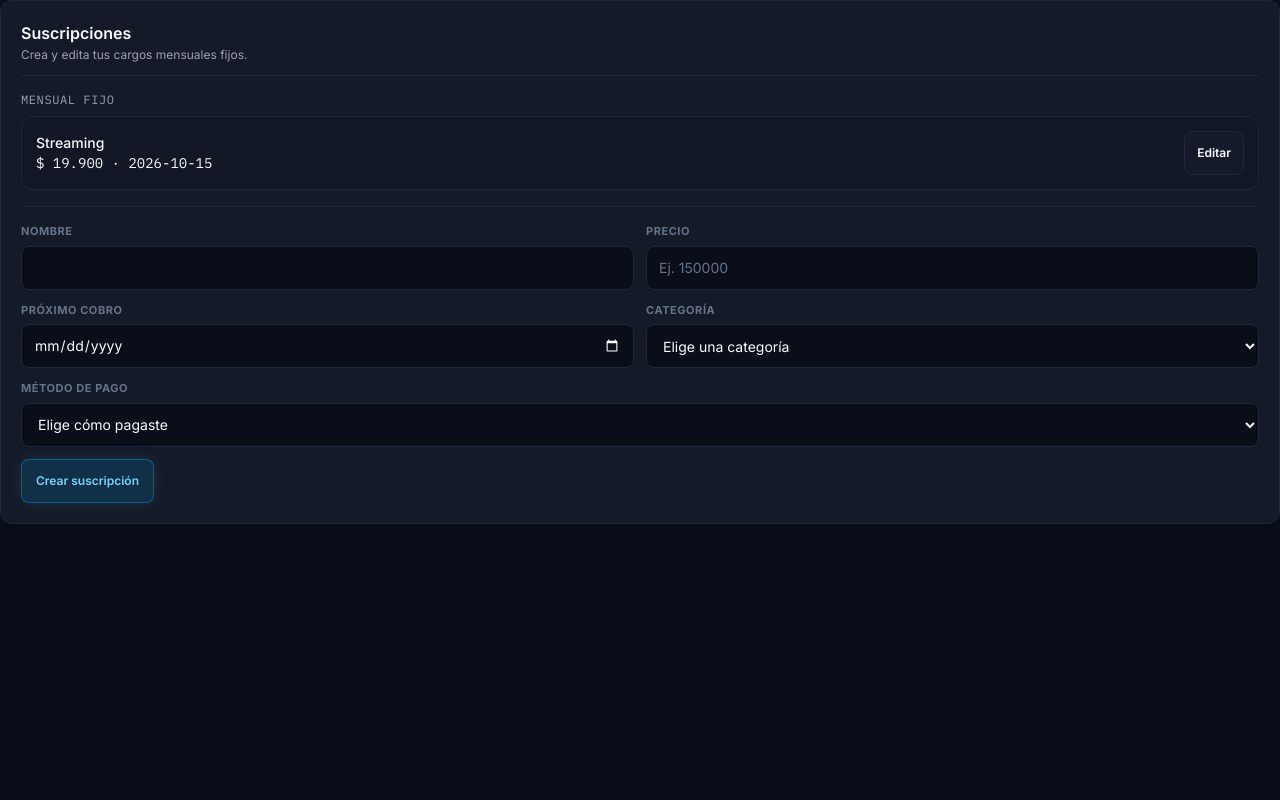
Scenario: SubscriptionsSection › falls back to the generic Spanish message for a 500 with a non-JSON body (F11.3)
Expected: the text "Streaming" is shown, [36, 134, 104, 151]
Click the button "Editar": x=1214, y=153 [1184, 131, 1244, 175]
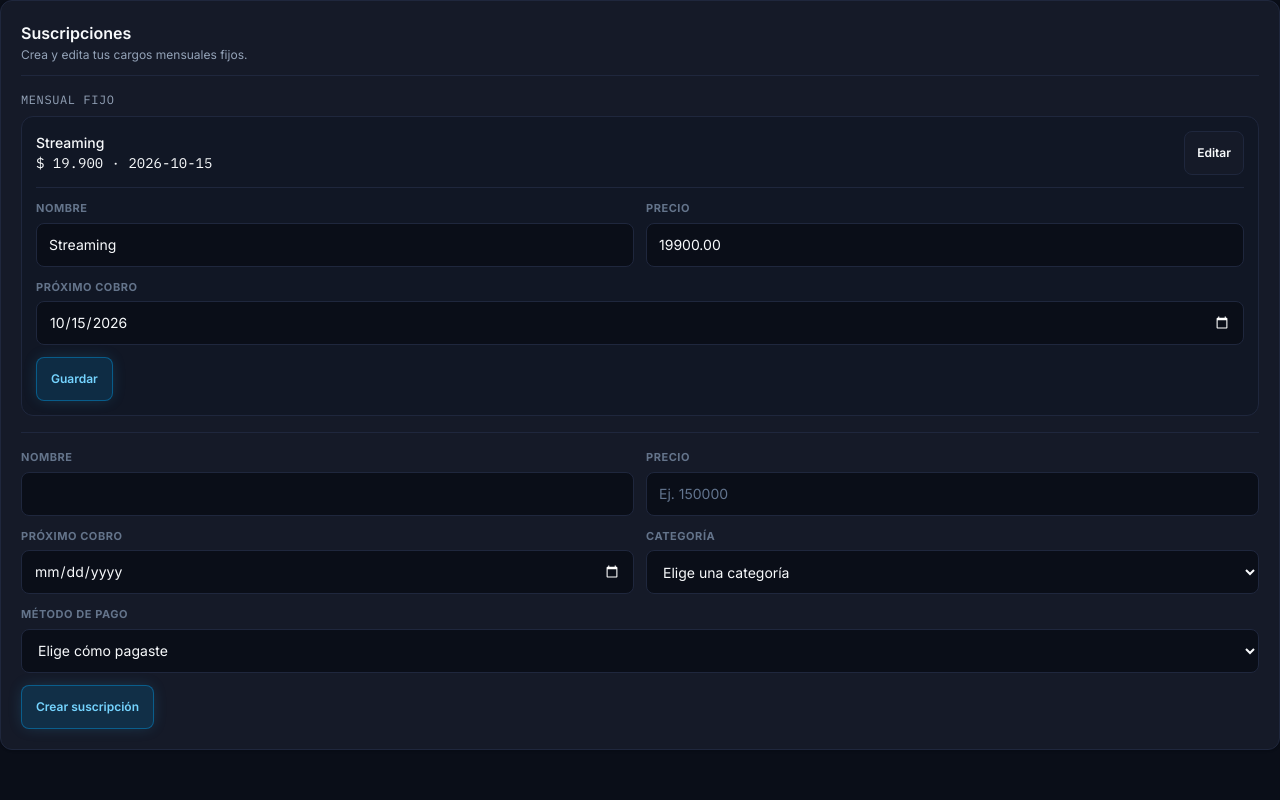
Click the button "Guardar": x=74, y=379 [36, 357, 113, 401]
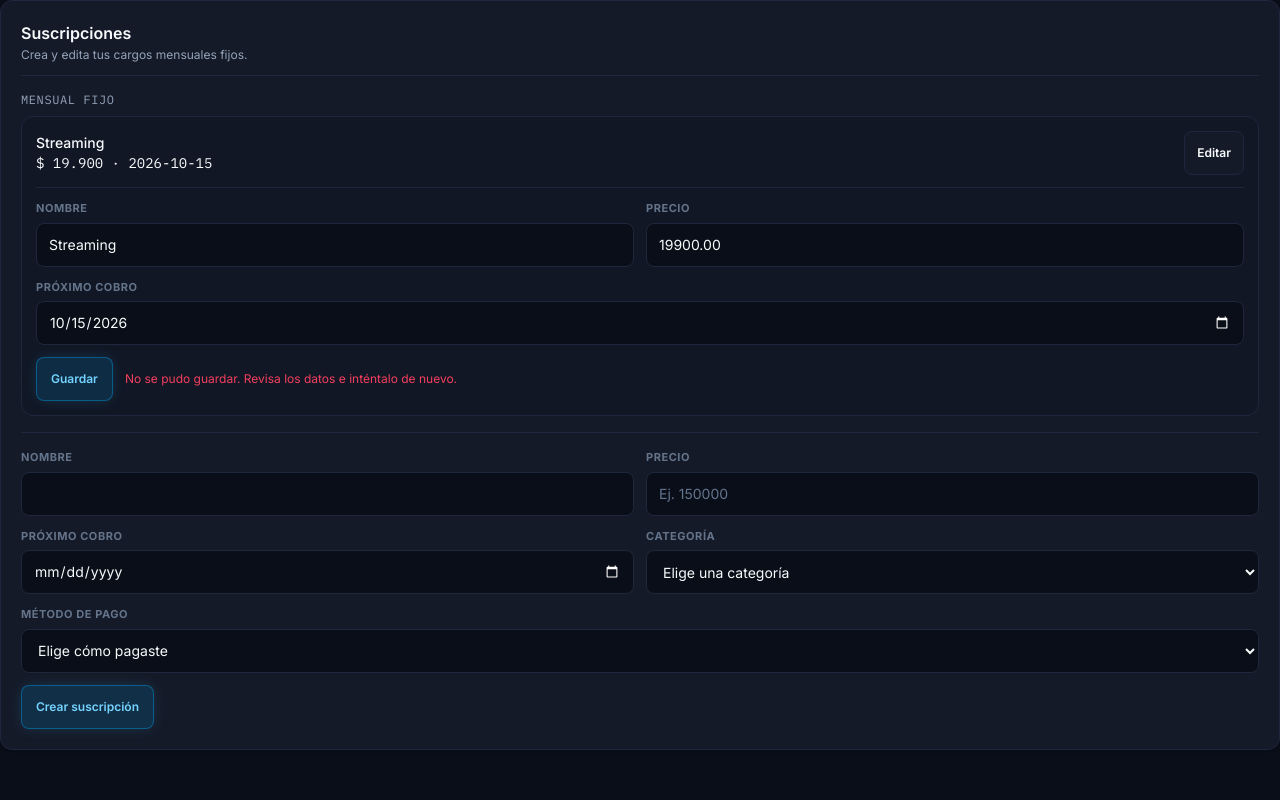
Expected: the message reads "No se pudo guardar. Revisa los datos e inténtalo de nuevo.", [125, 371, 457, 386]
